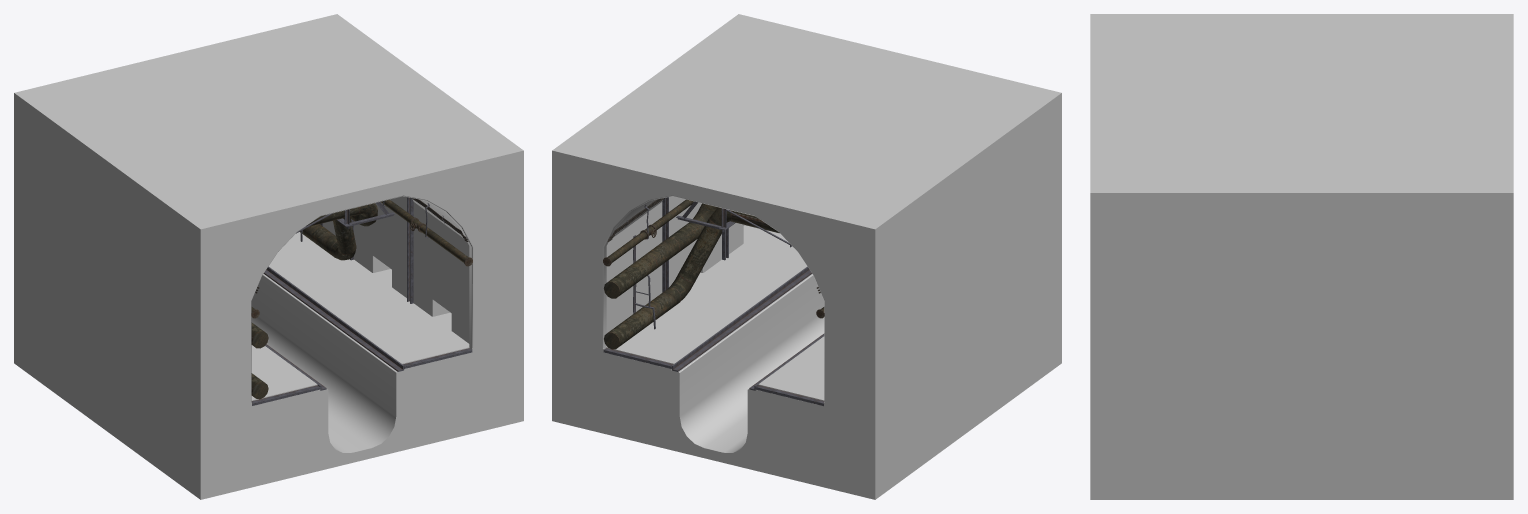
The model's file is SM_Sewer_Tunnel_J.fbx.
3 views of the same model, side by side, from view 1: azimuth 30°, elevation 25°; view 2: azimuth 150°, elevation 25°; view 3: azimuth 270°, elevation 25° (orthographic). The views are drawn at different scales.
Parts seen in each view (by area): view 1: Ceiling, Base, Wall_Left, Wall_Right, Bulks_floor, Pipes_Big, Halo_Front, Pipes_Small_Right, Bulks_Wall; view 2: Ceiling, Base, Wall_Left, Wall_Right, Pipes_Big, Bulks_floor, Halo_Back, Pipes_Big3, Pipes_Small_Right, Bulks_Wall, SM_Bulk_Holder_Main; view 3: Ceiling, Wall_Right, Base.
Part boxes in pixels (x1,y1,x2,y2): Ceiling: (14,14,523,313); Base: (14,232,523,499); Wall_Left: (14,177,249,415); Wall_Right: (323,196,523,347); Bulks_floor: (251,266,472,405); Pipes_Big: (251,203,377,398); Halo_Front: (248,193,475,404); Pipes_Small_Right: (380,199,472,266); Bulks_Wall: (350,197,413,303); Ceiling: (552,14,1061,313); Base: (552,225,1061,499); Wall_Left: (826,177,1061,415); Wall_Right: (552,196,759,348); Pipes_Big: (604,203,779,349); Bulks_floor: (603,266,824,406); Halo_Back: (600,193,827,404); Pipes_Big3: (631,204,721,282); Pipes_Small_Right: (603,199,693,266); Bulks_Wall: (662,197,728,292); SM_Bulk_Holder_Main: (676,201,791,247); Ceiling: (1090,14,1513,288); Wall_Right: (1090,289,1513,403); Base: (1090,404,1513,499).
Size of the model in its own units: 1000 by 800 by 1000.
